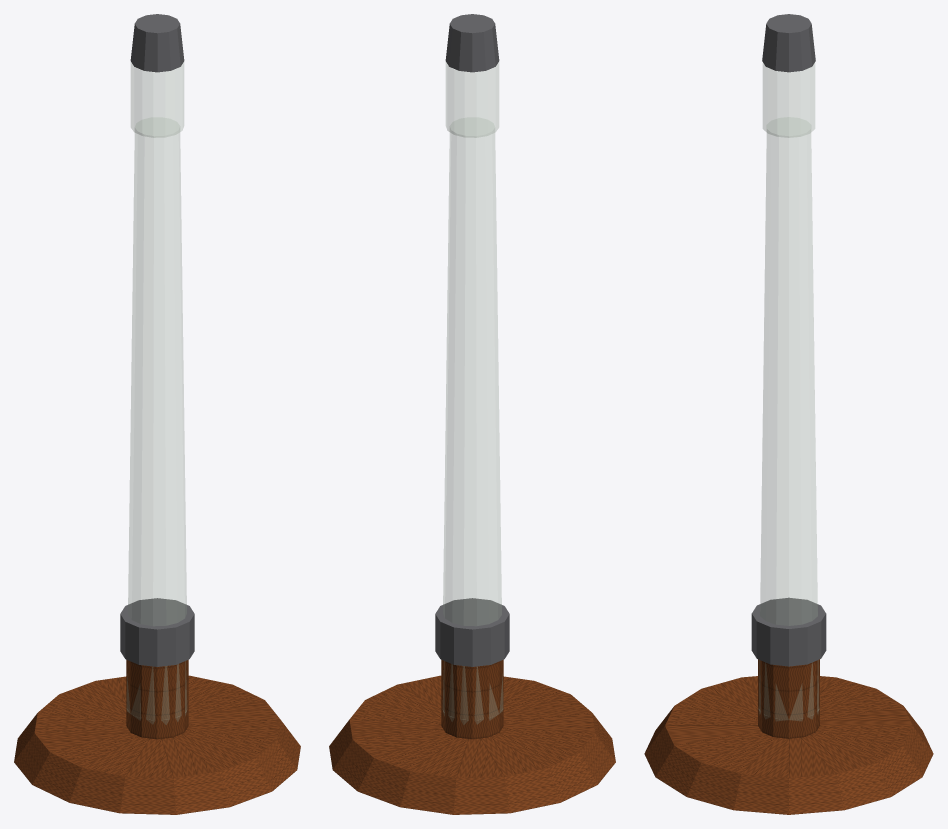
The model's file is sample-thief.glb.
3 views of the same model, side by side, from view 1: azimuth 30°, elevation 25°; view 2: azimuth 150°, elevation 25°; view 3: azimuth 270°, elevation 25° (orthographic).
Visible parts, largest first — view 1: sample-thief-oak, sample-thief-glass, sample-thief-dark; view 2: sample-thief-oak, sample-thief-glass, sample-thief-dark; view 3: sample-thief-oak, sample-thief-glass, sample-thief-dark.
Part boxes in pixels (left/top/right/bottom): sample-thief-oak: left=14, top=659, right=300, bottom=814; sample-thief-glass: left=126, top=62, right=186, bottom=724; sample-thief-dark: left=120, top=14, right=194, bottom=666; sample-thief-oak: left=329, top=659, right=615, bottom=814; sample-thief-glass: left=443, top=62, right=503, bottom=724; sample-thief-dark: left=435, top=14, right=509, bottom=666; sample-thief-oak: left=644, top=659, right=933, bottom=814; sample-thief-glass: left=758, top=63, right=819, bottom=720; sample-thief-dark: left=751, top=14, right=826, bottom=666.
Size of the model in its own units: 0.28 by 0.78 by 0.28.
3 materials, 1 textured.
